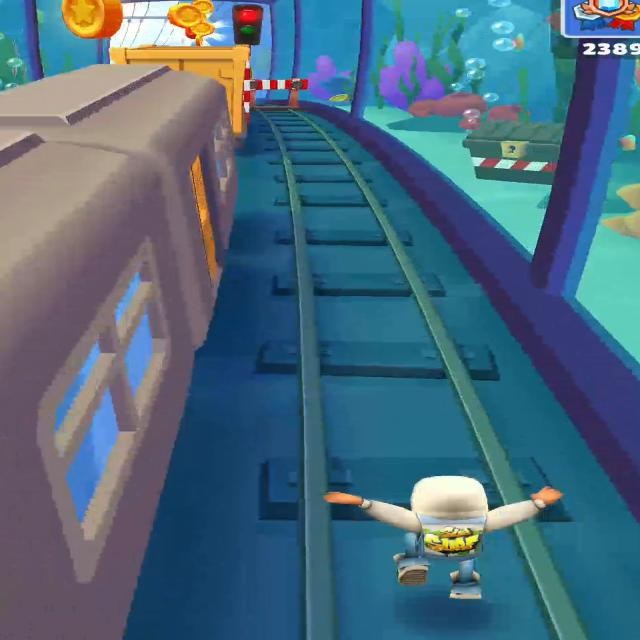blocker: (245, 76, 307, 109)
train: (0, 132, 201, 640), (0, 64, 237, 346), (111, 46, 249, 137)
